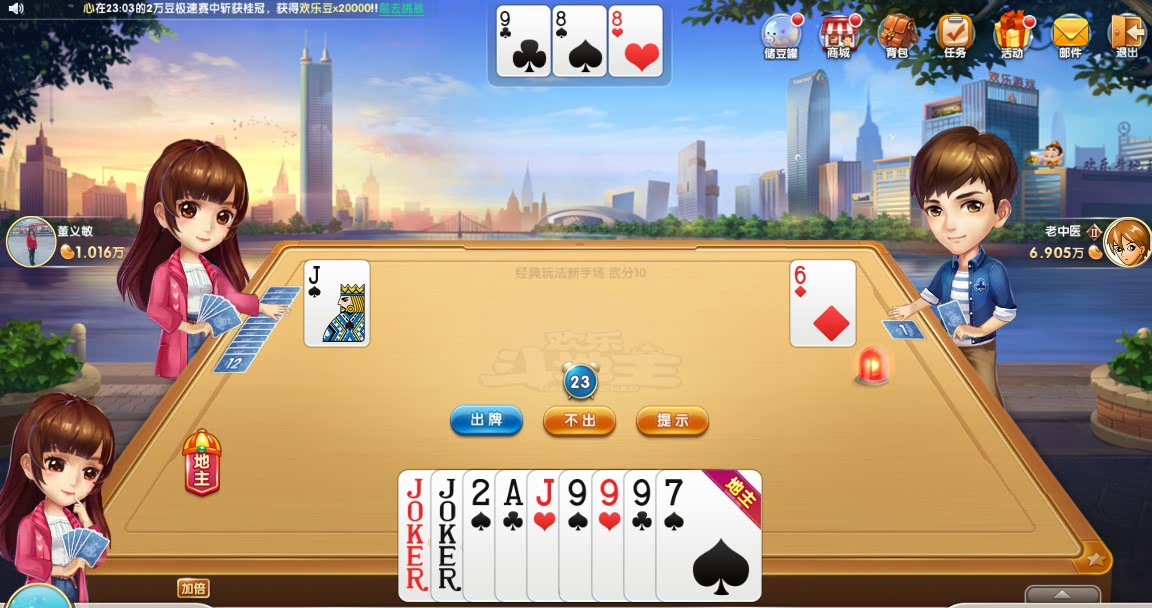11~3: (526, 470, 634, 602)
11~4: (304, 258, 370, 348)
14~2: (493, 468, 601, 600)
15~4: (462, 468, 570, 600)
17~3: (429, 469, 537, 601)
18~4: (398, 469, 506, 601)
6~1: (790, 259, 856, 346)
7~4: (654, 470, 762, 602)
8~3: (609, 4, 664, 76)
8~4: (552, 4, 607, 76)
9~2: (623, 470, 731, 602), (496, 5, 551, 77)
9~3: (591, 470, 699, 602)
9~4: (558, 470, 666, 602)
